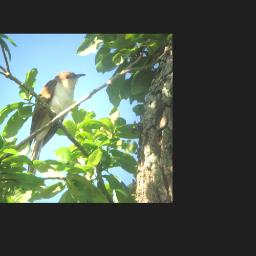Cuckoo: (25, 70, 89, 180)
